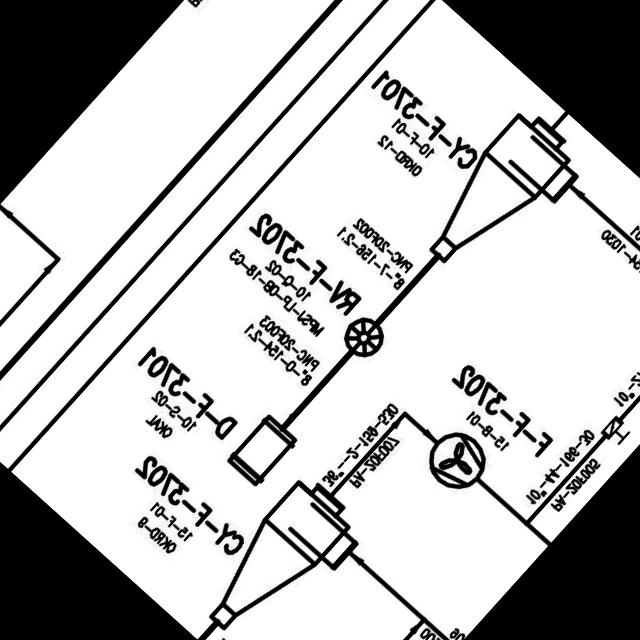BV: (594, 405, 636, 446)
CY: (400, 95, 600, 300), (182, 462, 378, 640)
D2: (218, 406, 302, 492)
F: (416, 417, 501, 502)
RV1: (331, 304, 396, 369)
